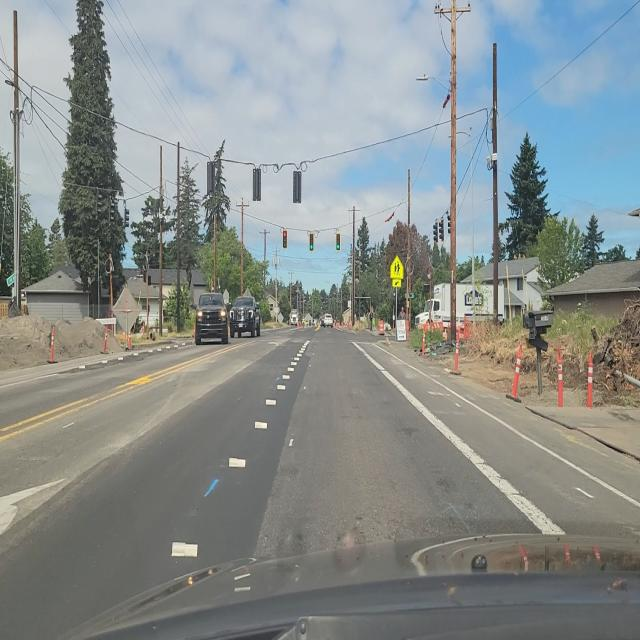car: (194, 293, 229, 345), (230, 295, 262, 339), (321, 313, 333, 328)
crosswalk-sign: (391, 257, 404, 281)
delineator: (509, 343, 523, 401), (586, 349, 594, 409), (453, 327, 462, 374), (557, 350, 564, 409), (102, 326, 109, 354), (421, 324, 427, 356), (50, 325, 55, 363), (127, 331, 132, 350)
